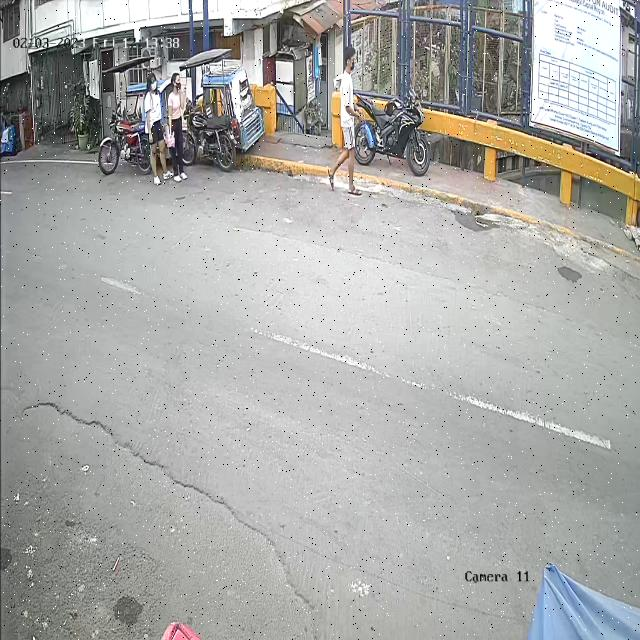human: (327, 46, 374, 196)
trash: (361, 116, 375, 149)
